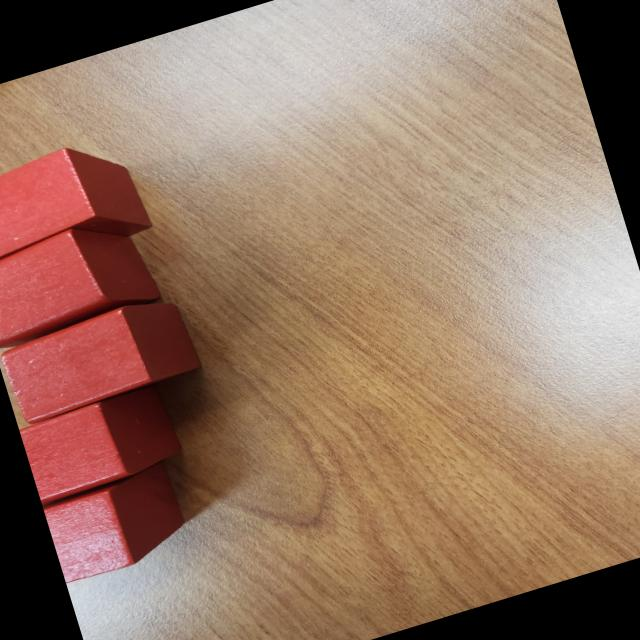red: (0, 288, 204, 426), (0, 128, 154, 284), (0, 208, 166, 352), (18, 381, 187, 504), (41, 466, 190, 584)
